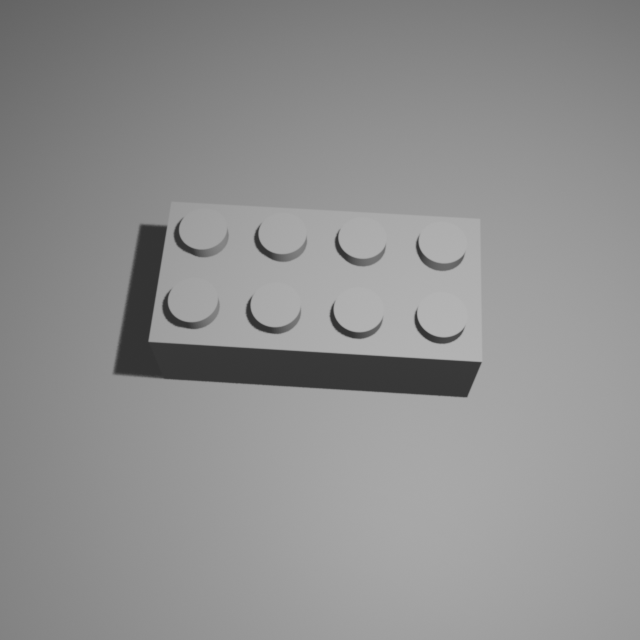lego_2x4: (146, 193, 485, 398)
